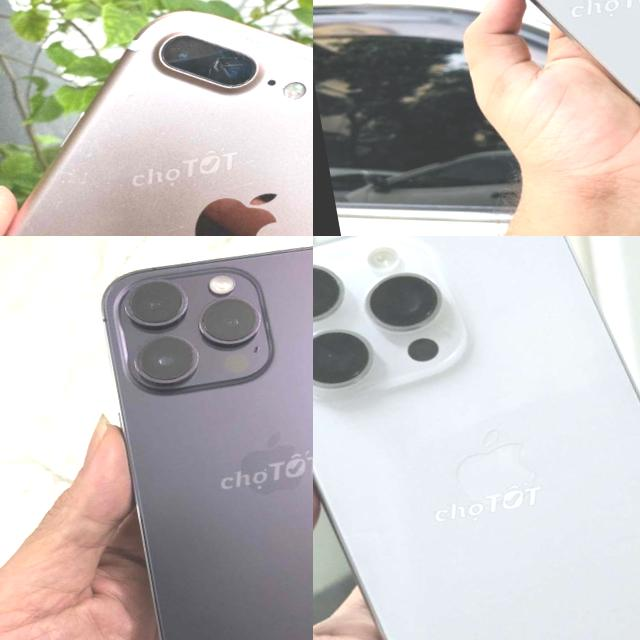scratch: (151, 1, 313, 124), (32, 120, 136, 186)
